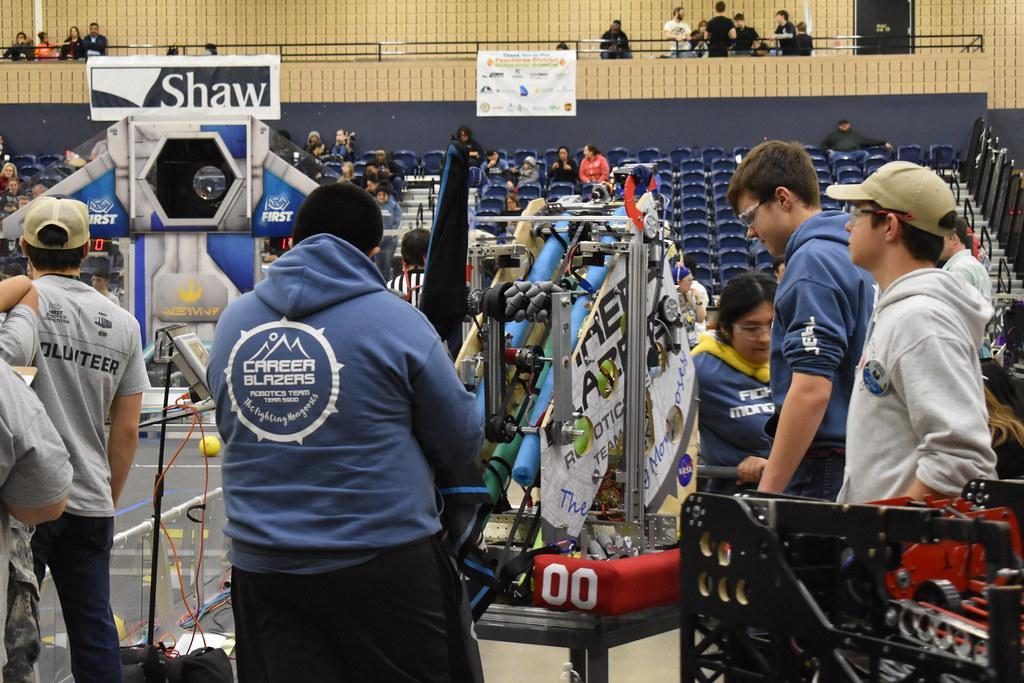robot: (393, 147, 749, 615), (673, 470, 1024, 683)
